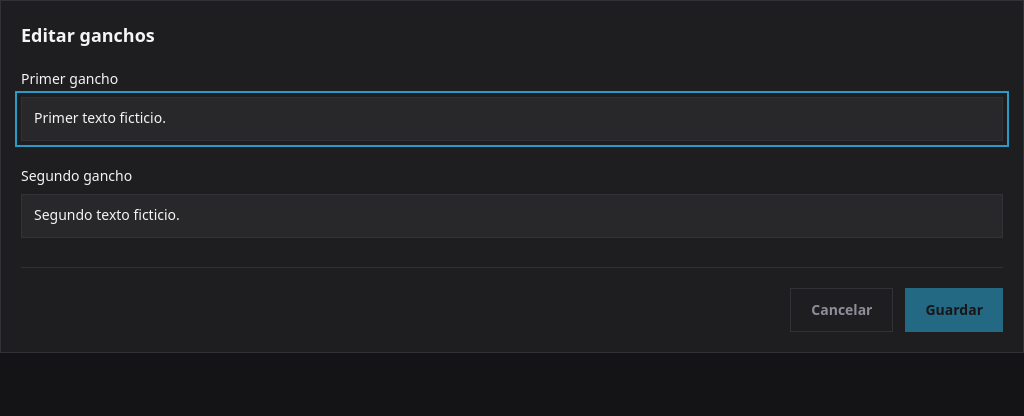
it: EditorGanchos › con conflicto conserva lo escrito y ofrece Recargar
This screenshot has width=1024, height=416.
Later steps or results of the test are not shown.
Replace the text in the text box named "Texto de Primer gancho" with "Texto que no se pierde.". click: (512, 119)
box: [21, 97, 1003, 141]
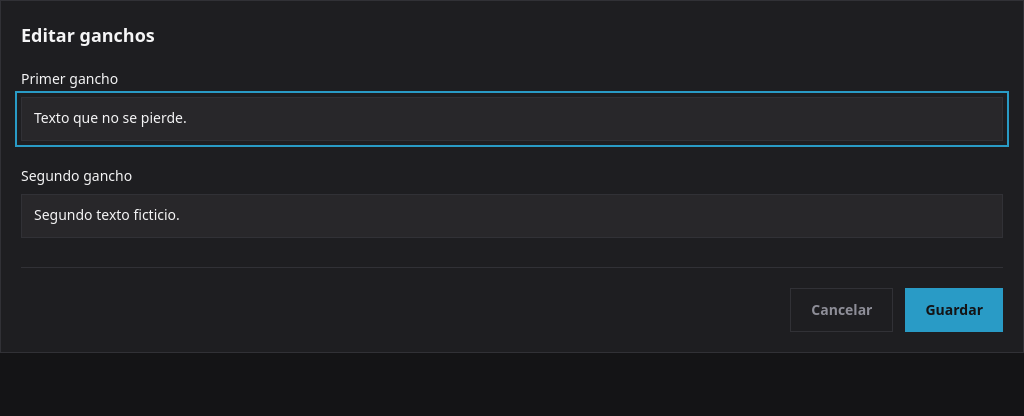
Click the button "Guardar". click: (954, 310)
box: [906, 288, 1003, 332]
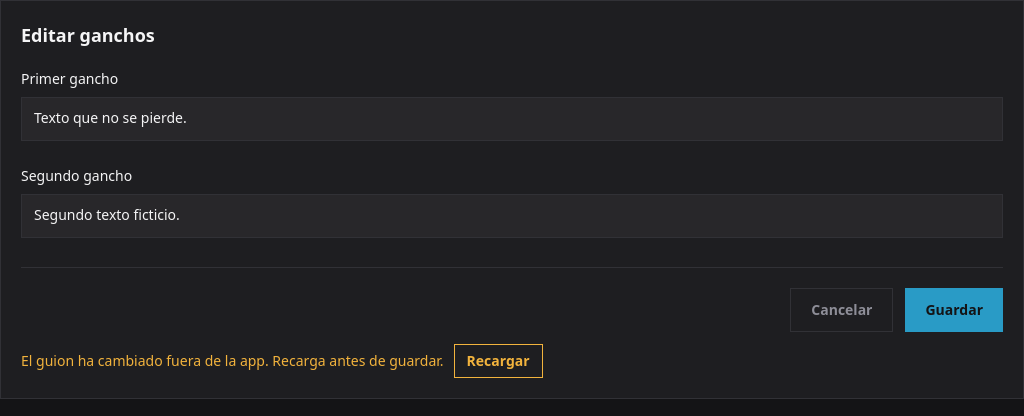
Expected: the text "El guion ha cambiado fuera de la app. Recarga antes de guardar." is shown, [21, 351, 444, 370]
